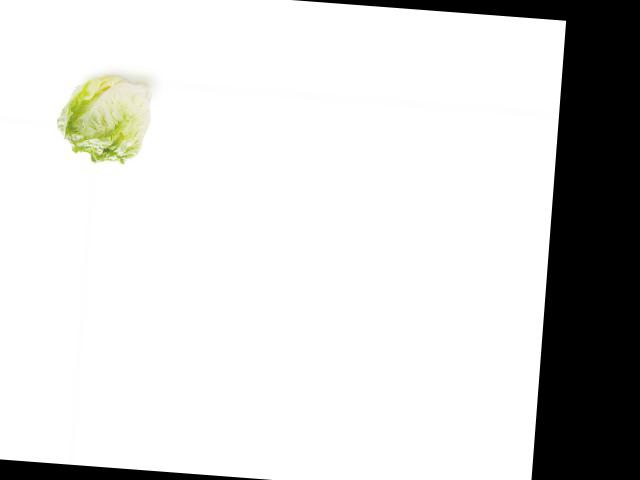lettuce: (49, 73, 159, 170)
